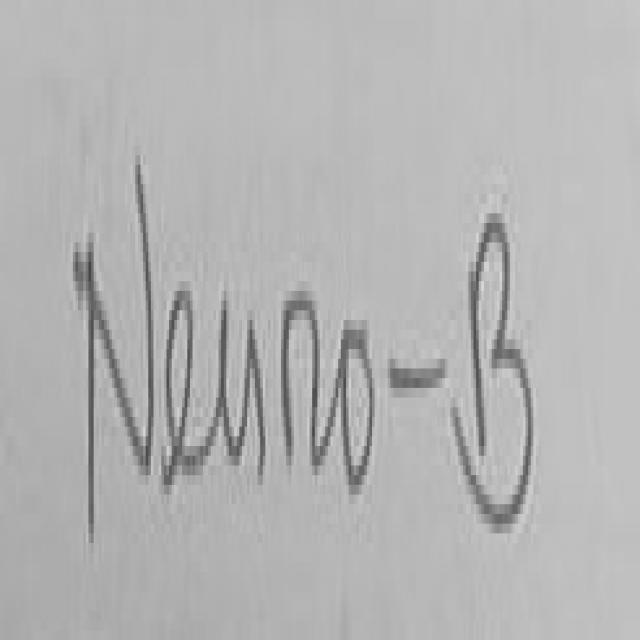B: (455, 213, 536, 533)
N: (75, 165, 153, 538)
e: (164, 291, 217, 485)
o: (343, 330, 375, 495)
r: (281, 291, 341, 475)
u: (221, 301, 265, 470)
